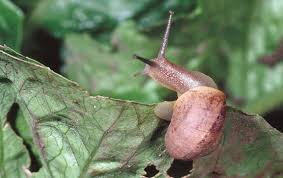snail: (138, 11, 225, 158)
